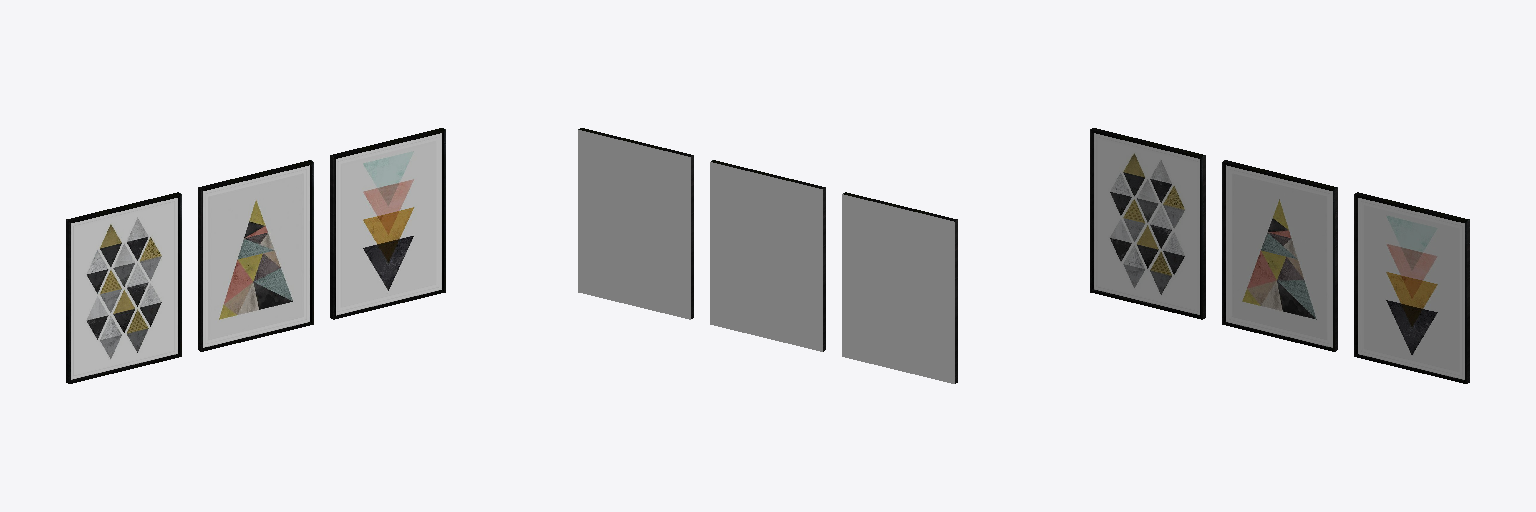
3 renders of one model, left to right at view 1: azimuth 30°, elevation 25°; view 2: azimuth 150°, elevation 25°; view 3: azimuth 330°, elevation 25°, orthographic.
Visible parts, largest first — view 1: picture; view 2: picture; view 3: picture.
Boxes of the visible parts, x1=… form: picture: x1=66, y1=128, x2=445, y2=383; picture: x1=578, y1=128, x2=957, y2=383; picture: x1=1090, y1=128, x2=1469, y2=383.
Bounding box in the file's own units: 2.44 × 1.01 × 0.0314.
Materials: 4 (3 with a texture image).